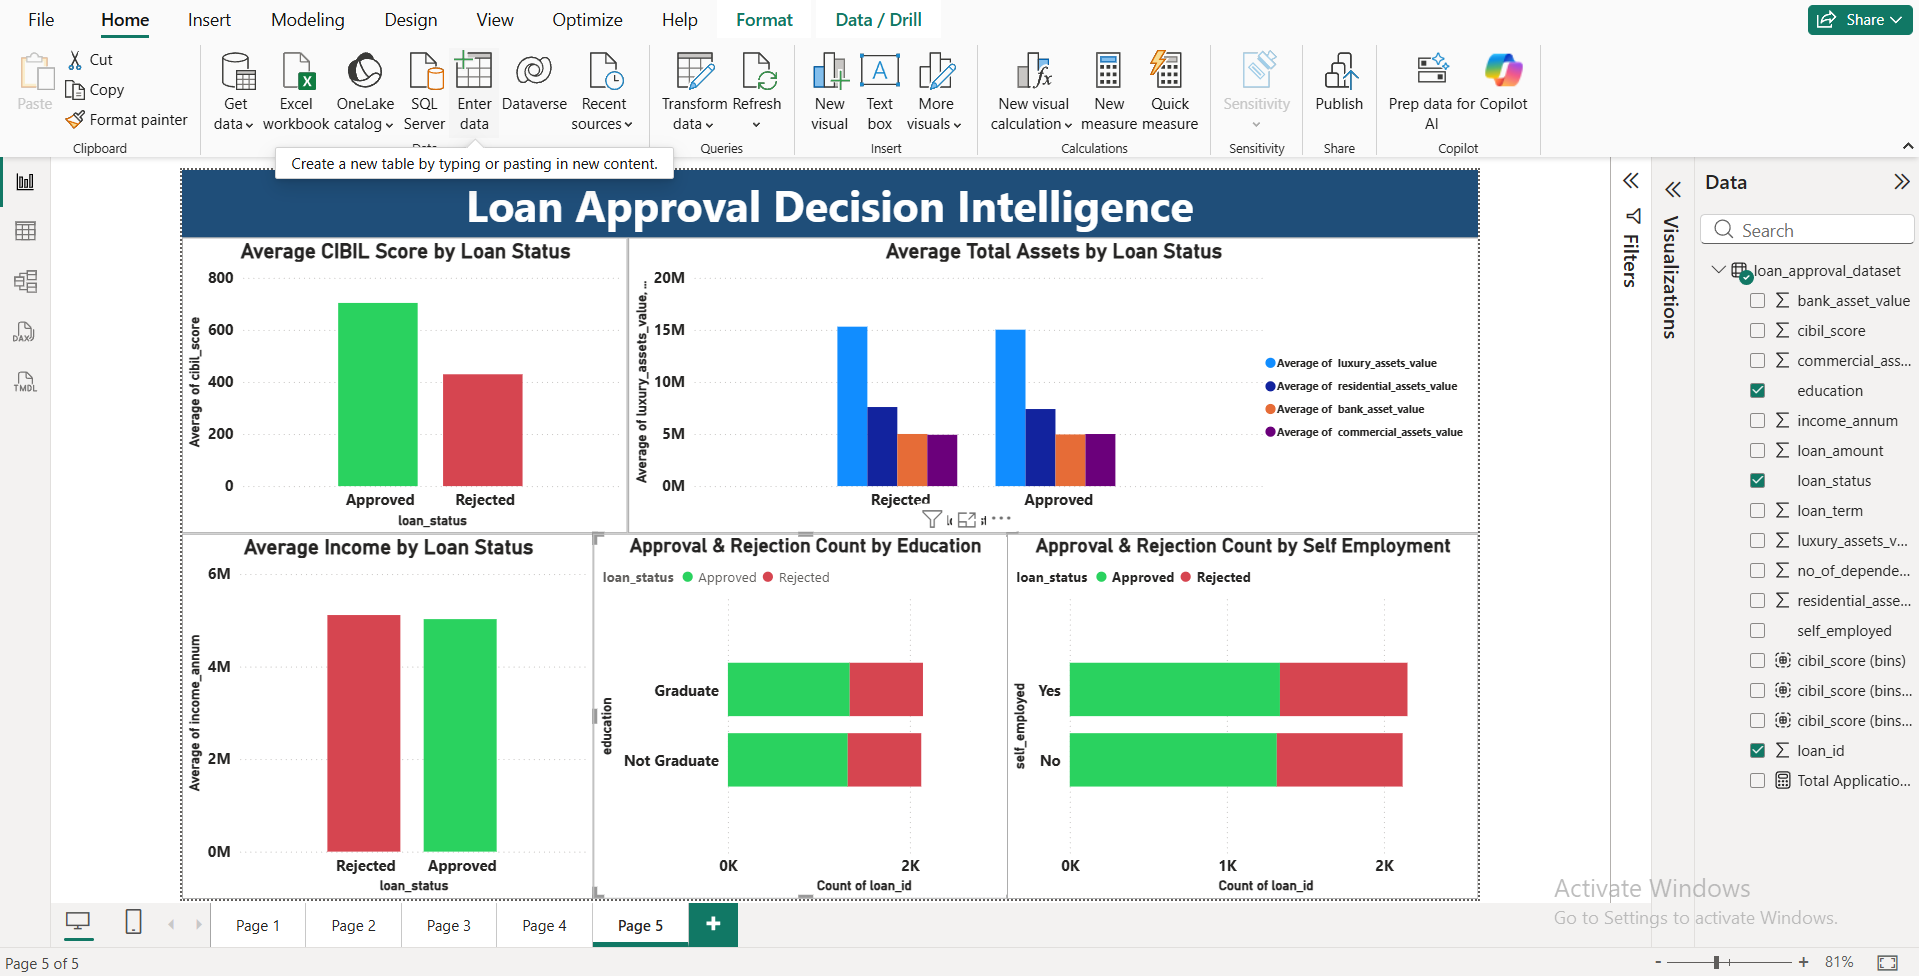

The page's visual inventory and layout, read from the dashboard file:
{"tool":"powerbi","page":{"name":"Page 5","canvas":[1280,720],"ordinal":4},"visuals":[{"type":"textbox","box":[0,0,1280,67.2],"z":0},{"type":"clusteredColumnChart","title":"Average CIBIL Score by Loan Status","fields":{"Category":["loan_approval_dataset. loan_status"],"Y":["Avg(loan_approval_dataset. cibil_score)"]},"box":[0,67.2,440.4,292.3],"z":1000},{"type":"clusteredColumnChart","title":"Average Income by Loan Status","fields":{"Category":["loan_approval_dataset. loan_status"],"Y":["Avg(loan_approval_dataset. income_annum)"]},"box":[0,359.5,406.8,360.7],"z":2000},{"type":"clusteredColumnChart","title":"Average Total Assets by Loan Status","fields":{"Category":["loan_approval_dataset. loan_status"],"Y":["Avg(loan_approval_dataset. luxury_assets_value)","Avg(loan_approval_dataset. residential_assets_value)","Avg(loan_approval_dataset. bank_asset_value)","Avg(loan_approval_dataset. commercial_assets_value)"]},"box":[440.4,67.2,839.7,292.3],"z":3000},{"type":"barChart","title":"Approval Rate by Education","fields":{"Category":["loan_approval_dataset. education"],"Y":["CountNonNull(loan_approval_dataset.loan_id)"],"Series":["loan_approval_dataset. loan_status"]},"box":[406.8,359.5,418,360.7],"z":4000},{"type":"barChart","title":"Approval Rate by Self Employment","fields":{"Category":["loan_approval_dataset. self_employed"],"Y":["CountNonNull(loan_approval_dataset.loan_id)"],"Series":["loan_approval_dataset. loan_status"]},"box":[814.8,359.5,465.2,360.7],"z":5000}]}

Visuals, with their boxes on the page's 1280x720 design canvas (x1, y1, x2, y2). These are canvas units, not pixel positions in the 1919x976 screenshot, which may show the page scaled, cropped or inside an application window:
textbox: select_region(0, 0, 1280, 67)
"Average CIBIL Score by Loan Status" clusteredColumnChart: select_region(0, 67, 440, 360)
"Average Income by Loan Status" clusteredColumnChart: select_region(0, 360, 407, 720)
"Average Total Assets by Loan Status" clusteredColumnChart: select_region(440, 67, 1280, 360)
"Approval Rate by Education" barChart: select_region(407, 360, 825, 720)
"Approval Rate by Self Employment" barChart: select_region(815, 360, 1280, 720)
